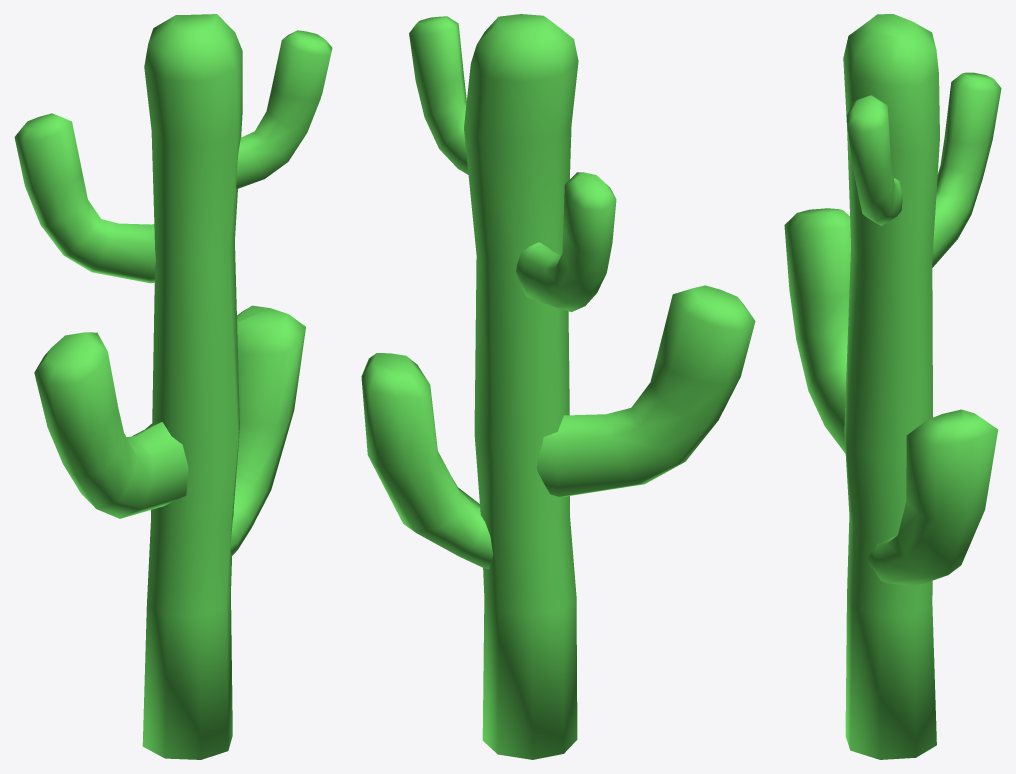
Rendered from Cactus_tall.fbx.
3 renders of one model, left to right at view 1: azimuth 30°, elevation 25°; view 2: azimuth 150°, elevation 25°; view 3: azimuth 270°, elevation 25°, orthographic.
Parts seen in each view (by area): view 1: Cactus_tall; view 2: Cactus_tall; view 3: Cactus_tall.
Part boxes in pixels (x1,y1,x2,y2): Cactus_tall: (14,14,332,759); Cactus_tall: (361,14,755,759); Cactus_tall: (784,14,1001,759).
Size of the model in its own units: 218 by 465 by 127.
